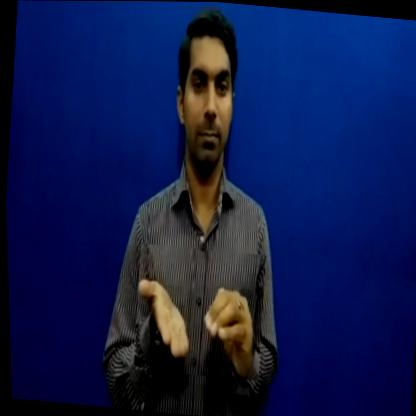ExcuseMe: (128, 244, 267, 381)
